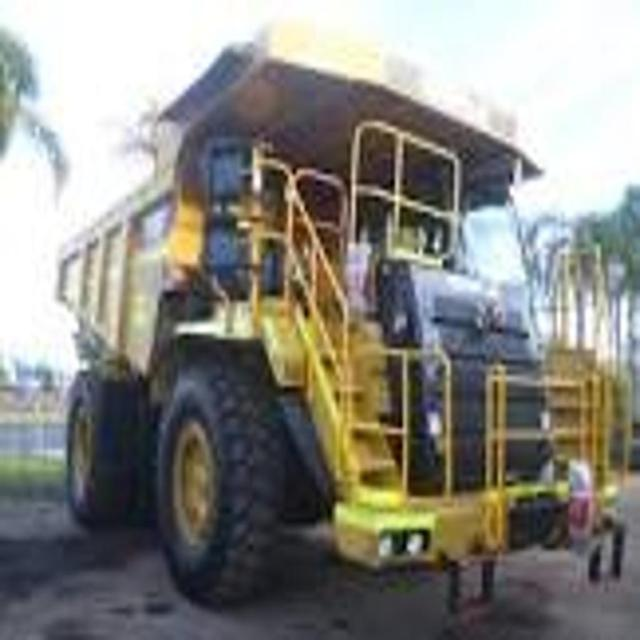dump_truck: (50, 9, 626, 612)
